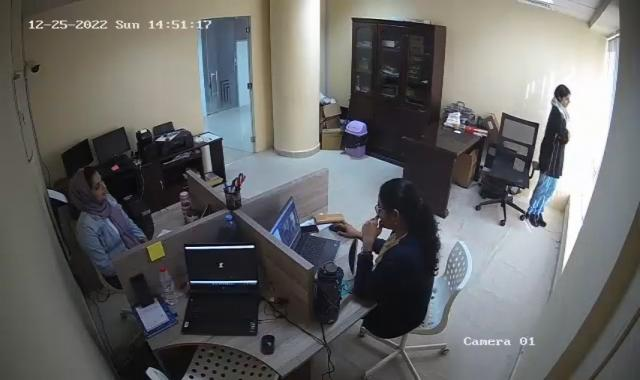no_hairnet: (378, 180, 418, 230), (72, 167, 106, 206), (555, 83, 571, 106)
